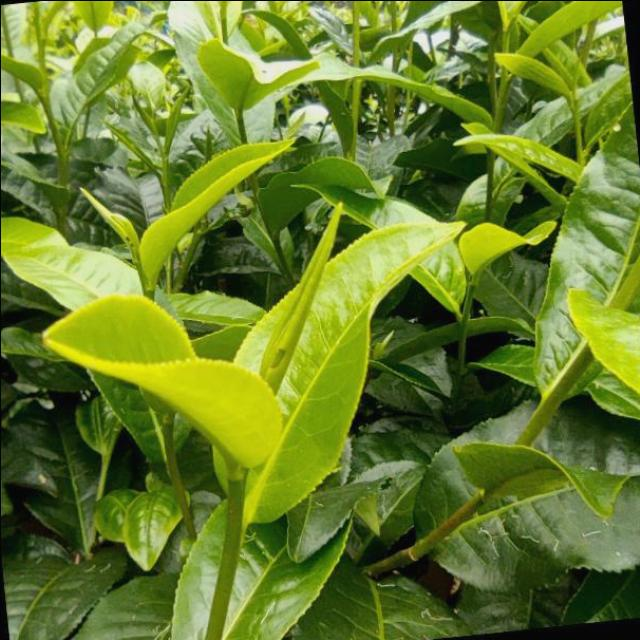Stem: (229, 477, 243, 497), (143, 287, 153, 294), (502, 30, 509, 38)
